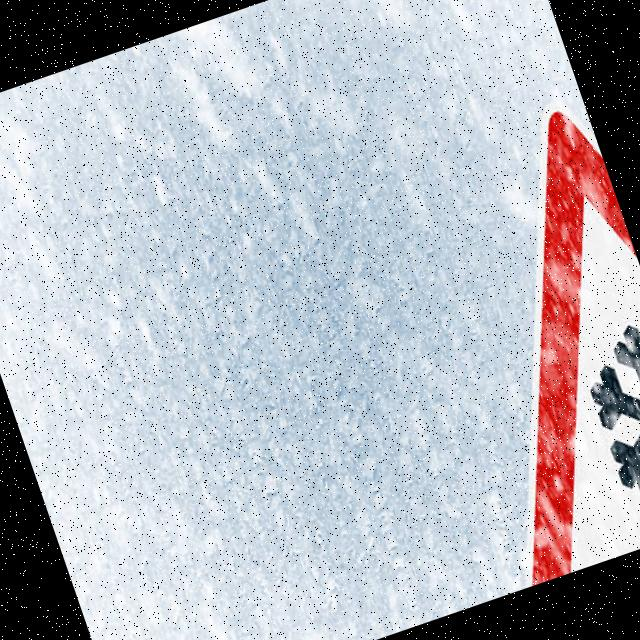snow_warning: (359, 78, 640, 591)
